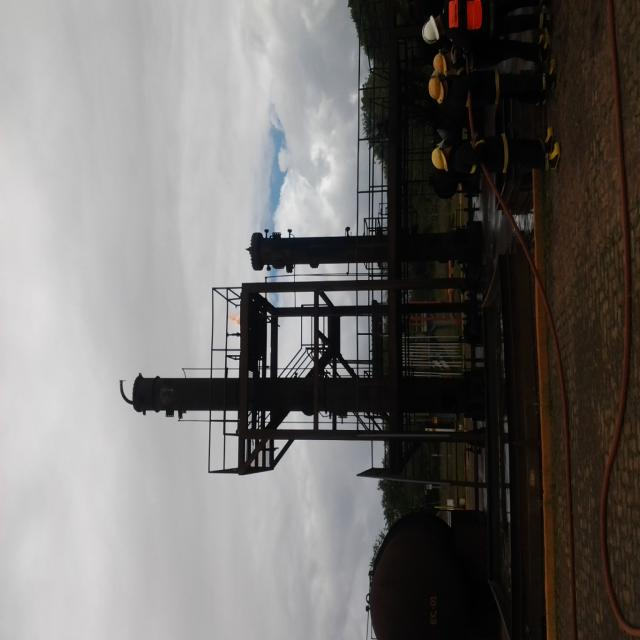no_fire: (15, 33, 640, 573)
